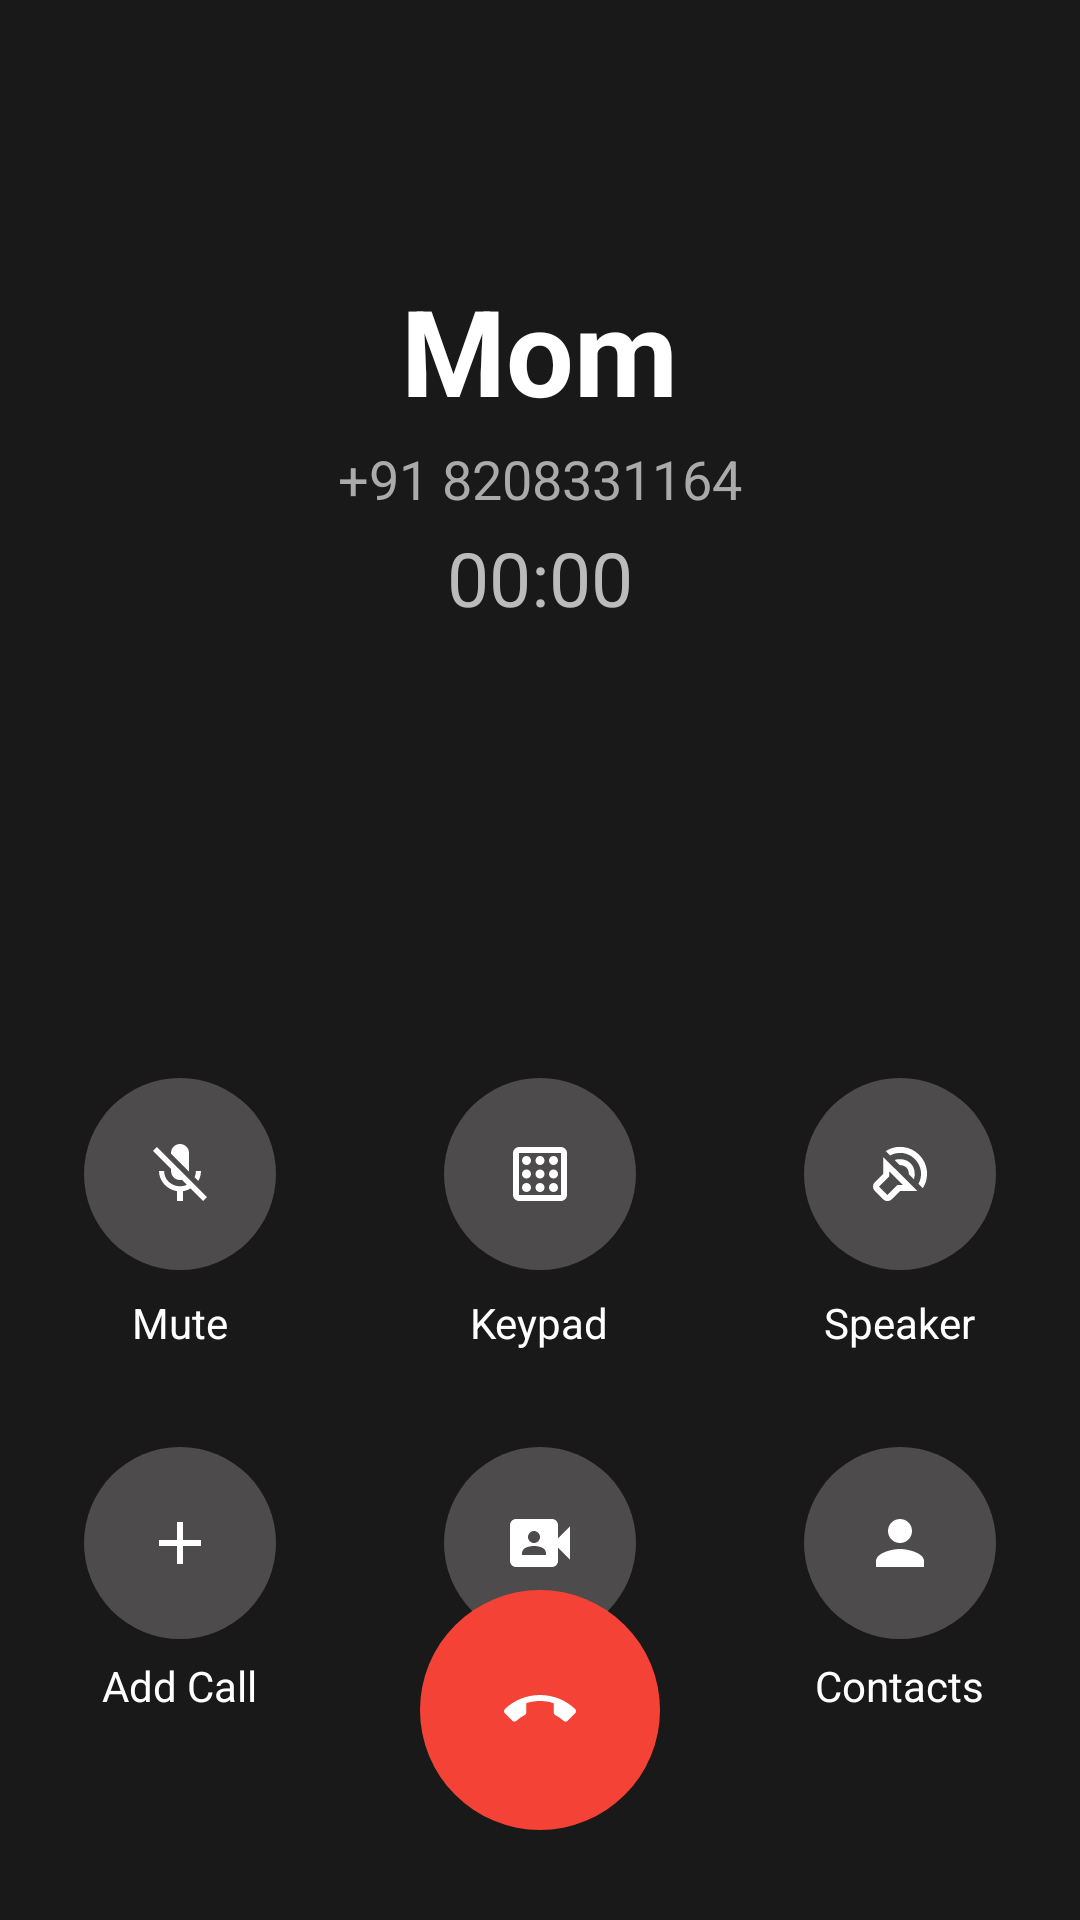

Icon click points for this 1080w x 1920h phone screenshot, format point (x, y):
call end: point (540, 1710)
person: point (900, 1543)
sound detection loud: point (900, 1174)
